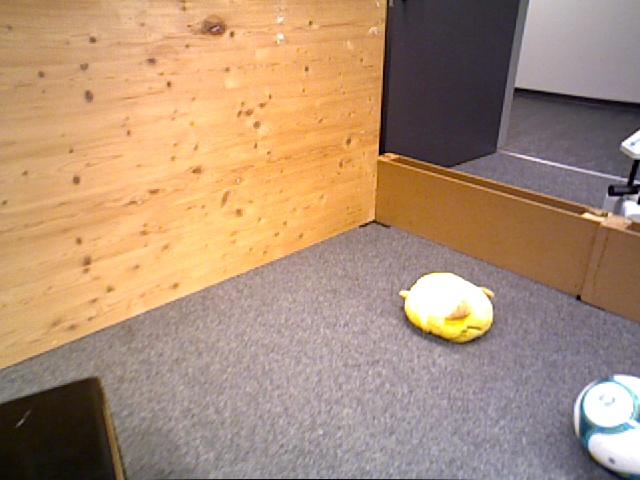grasp: (403, 272, 494, 343)
kick: (573, 374, 640, 477)
push: (1, 378, 125, 480)
